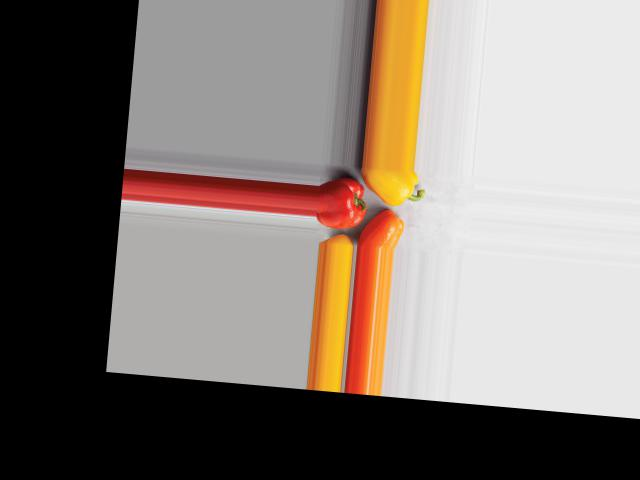bell_pepper: (316, 173, 369, 231)
